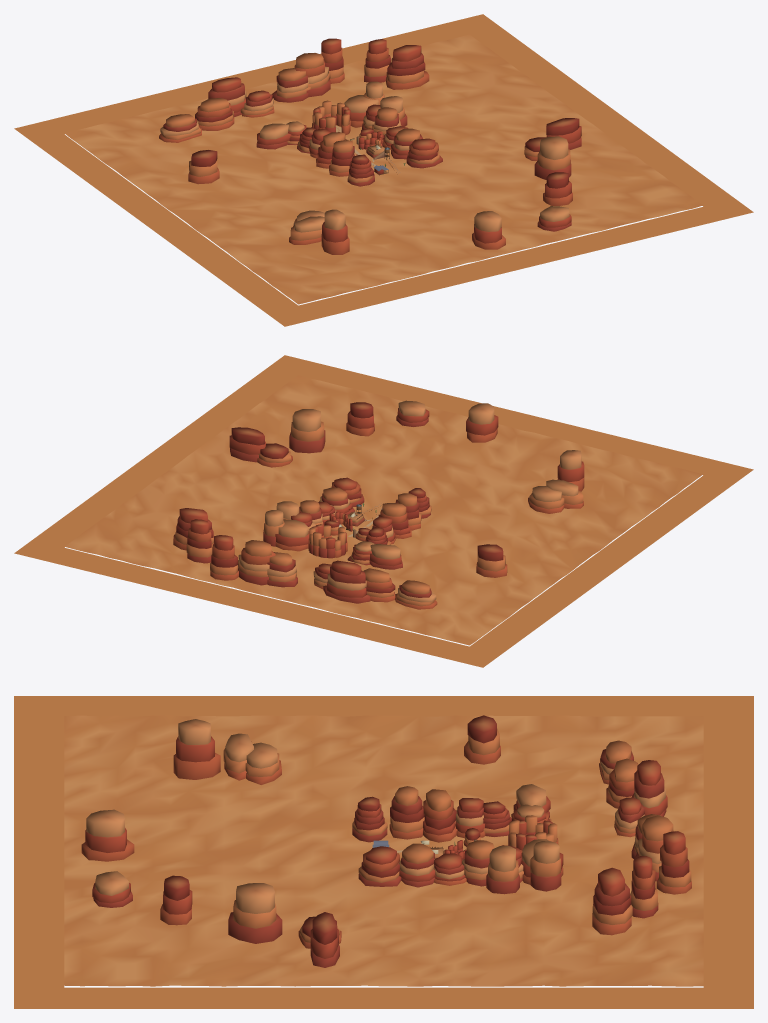
3 renders of one model, top to bottom at view 1: azimuth 30°, elevation 25°; view 2: azimuth 150°, elevation 25°; view 3: azimuth 270°, elevation 25°, orthographic. The views are drawn at different scales.
Visible parts, largest first — view 1: baked; view 2: baked; view 3: baked.
Boxes of the visible parts, x1,y1,x2,y2 form: baked: (14,14,753,326); baked: (14,355,753,667); baked: (14,696,753,1008).
Size of the model in its own units: 500 by 38.2 by 500.
